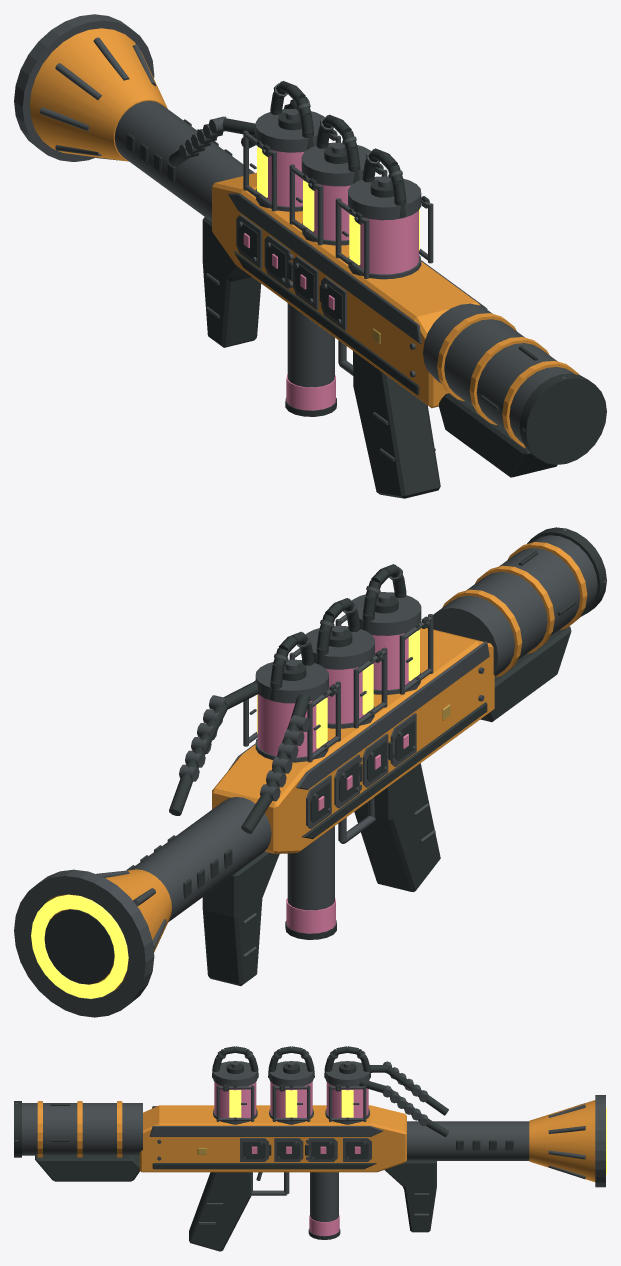
File: sticky_4.glb
3 views of the same model, one above another, from view 1: azimuth 30°, elevation 25°; view 2: azimuth 150°, elevation 25°; view 3: azimuth 270°, elevation 25° (orthographic). The views are drawn at different scales.
Visible parts, largest first — view 1: Weapon_sticky_v1; view 2: Weapon_sticky_v1; view 3: Weapon_sticky_v1.
Part boxes in pixels (box(x1,y1,x2,y2)): Weapon_sticky_v1: box(14, 14, 606, 498); Weapon_sticky_v1: box(14, 527, 606, 1017); Weapon_sticky_v1: box(14, 1046, 606, 1251).
Size of the model in its own units: 0.14 by 0.3345 by 0.8975.
